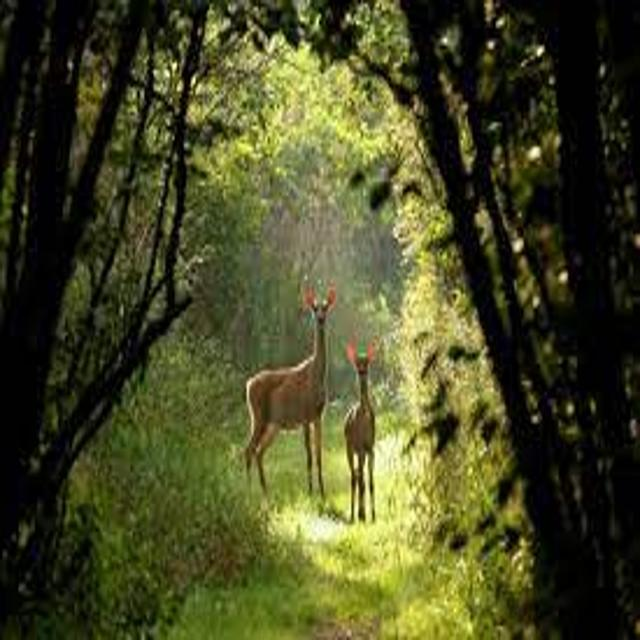deer: (216, 263, 350, 528), (307, 318, 421, 548)
